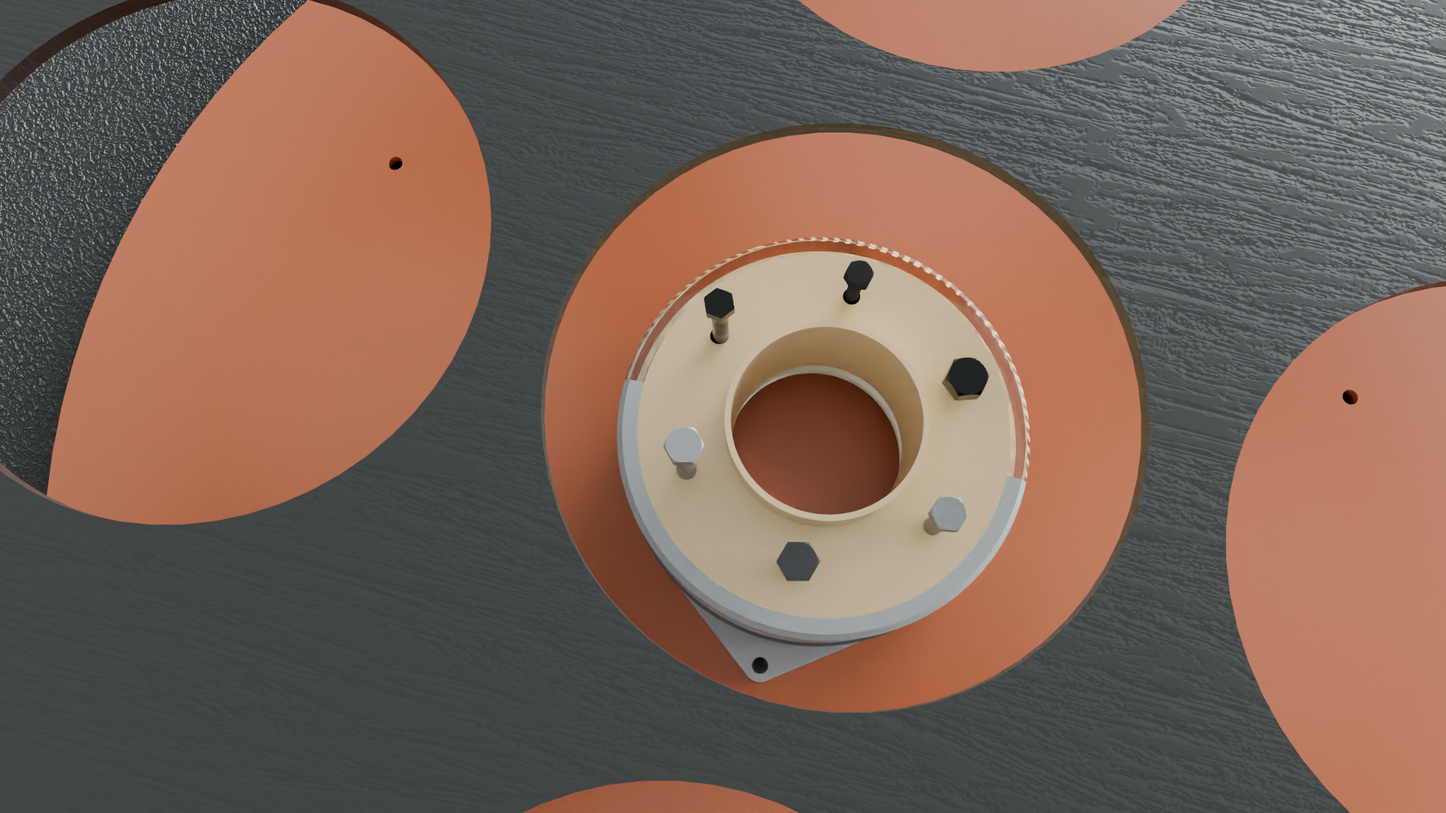bolt: (945, 358, 990, 397), (776, 542, 820, 580), (664, 428, 705, 463), (930, 496, 969, 531), (703, 288, 734, 318), (844, 260, 874, 286)
